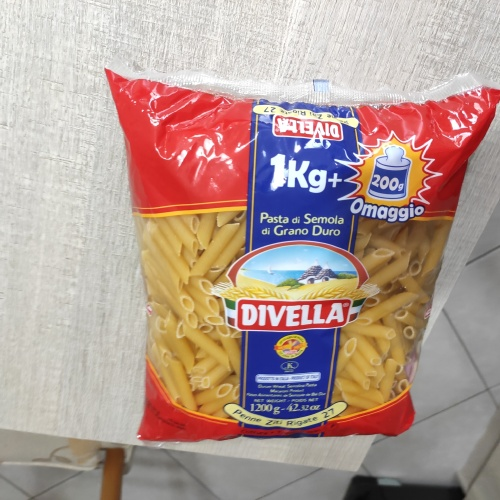pasta: (122, 73, 428, 436)
